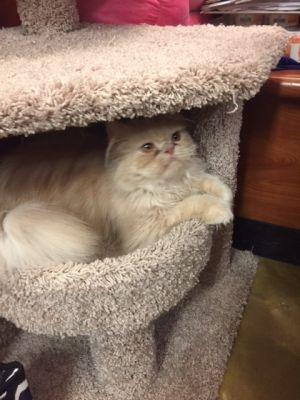persian: (104, 107, 205, 198)
